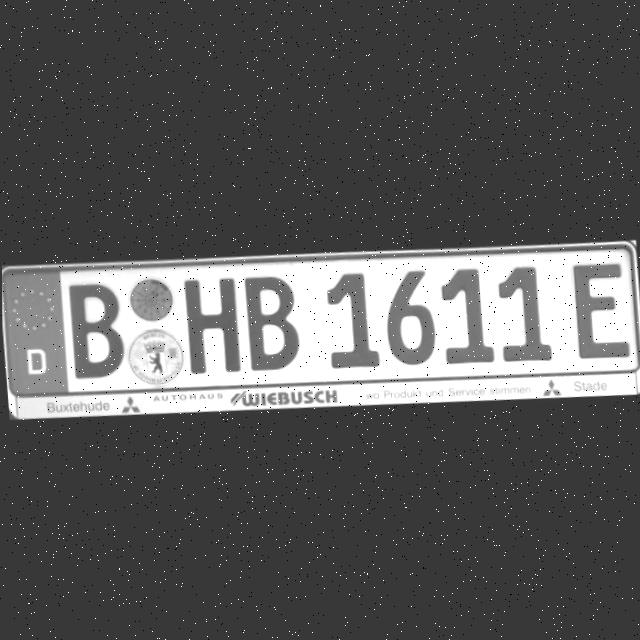license-plates: (2, 250, 638, 397)
